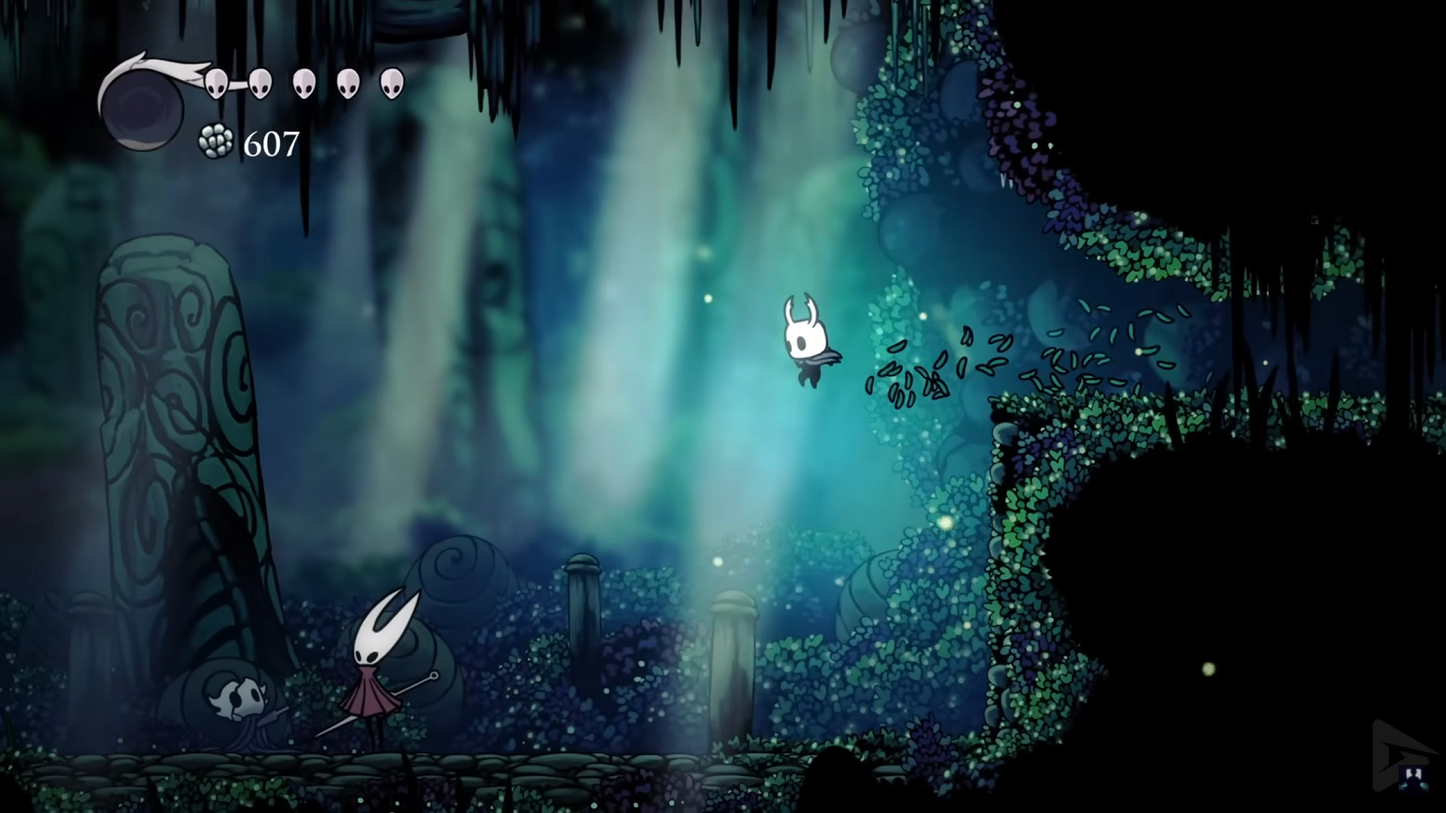HK: (771, 296, 845, 391)
